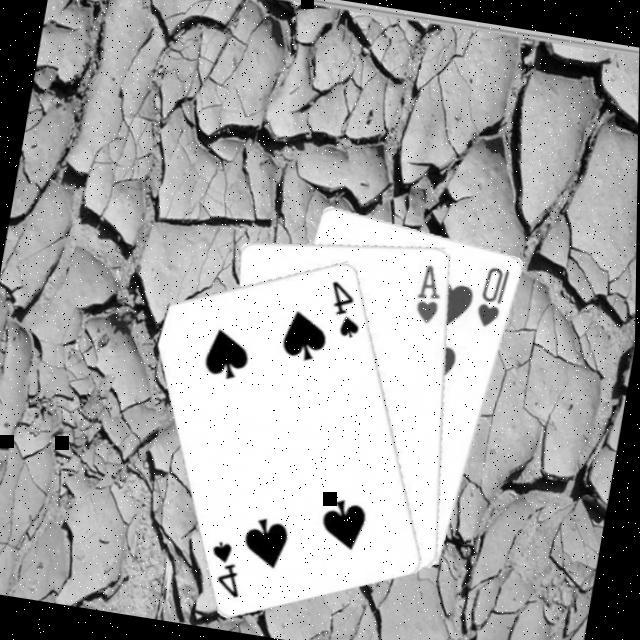10H: (474, 260, 516, 330)
4S: (204, 534, 255, 600), (322, 274, 372, 340)
AH: (411, 258, 452, 326)
